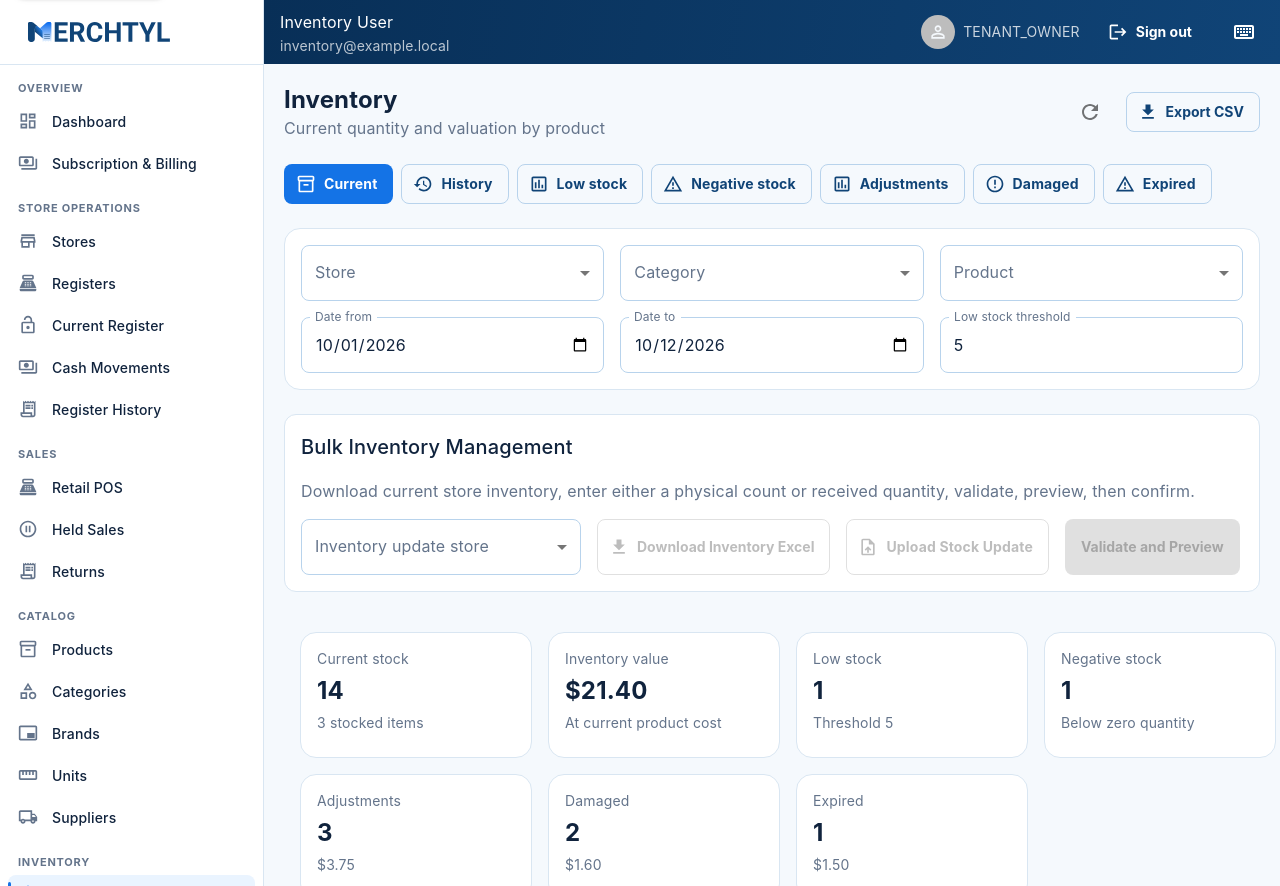
Scenario: Inventory reporting pages › shows bulk inventory actions to an authorized owner even with an empty permission list
Expected: the heading "Bulk Inventory Management" is shown, top-left (301, 435), bottom-right (573, 459)
Expected: the button "Download Inventory Excel" is disabled, top-left (597, 519), bottom-right (830, 575)
Click the dropdown named "Inventory update store" next to "Inventory update store". click: [441, 547]
box: top-left (301, 519), bottom-right (581, 575)
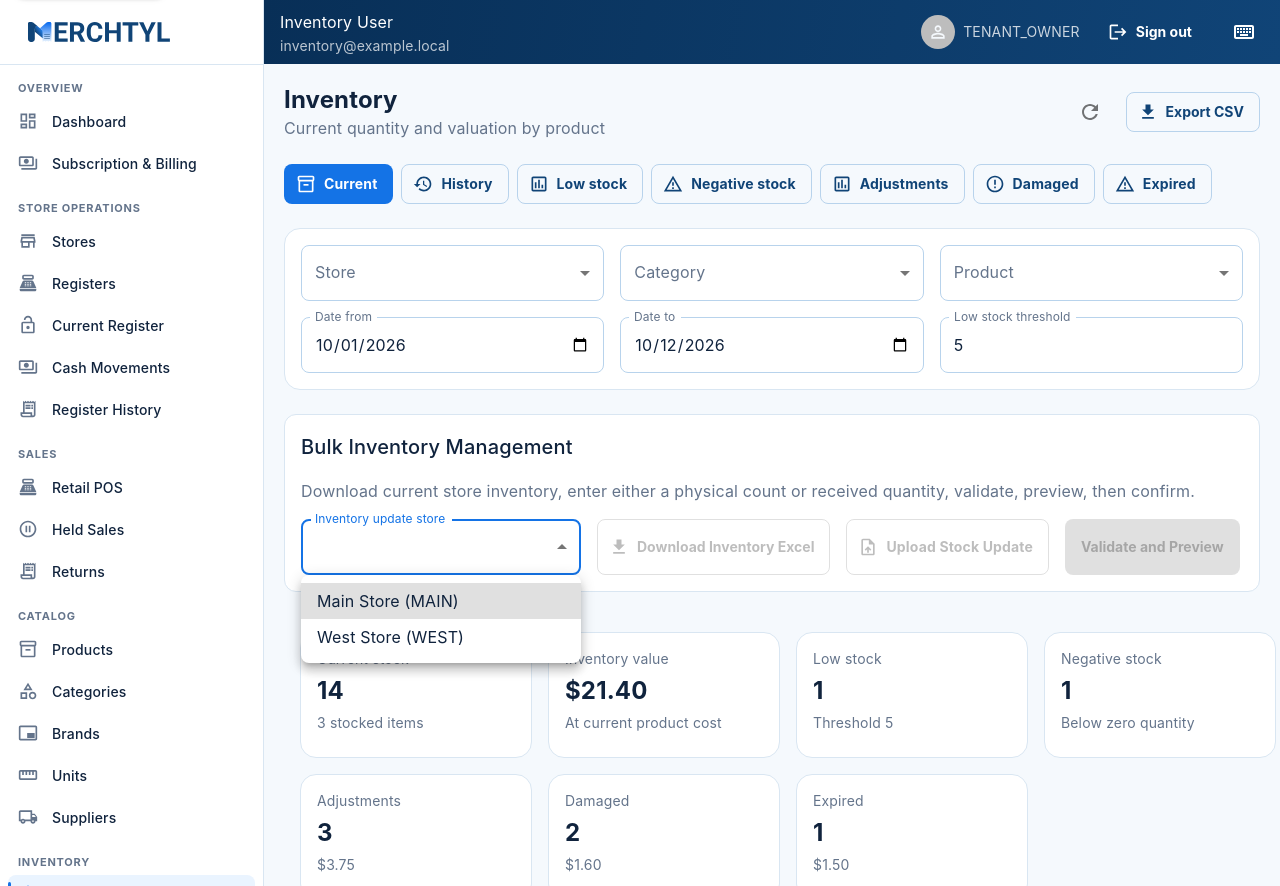
Click the option "Main Store (MAIN)". click: [441, 601]
box: top-left (301, 583), bottom-right (581, 619)
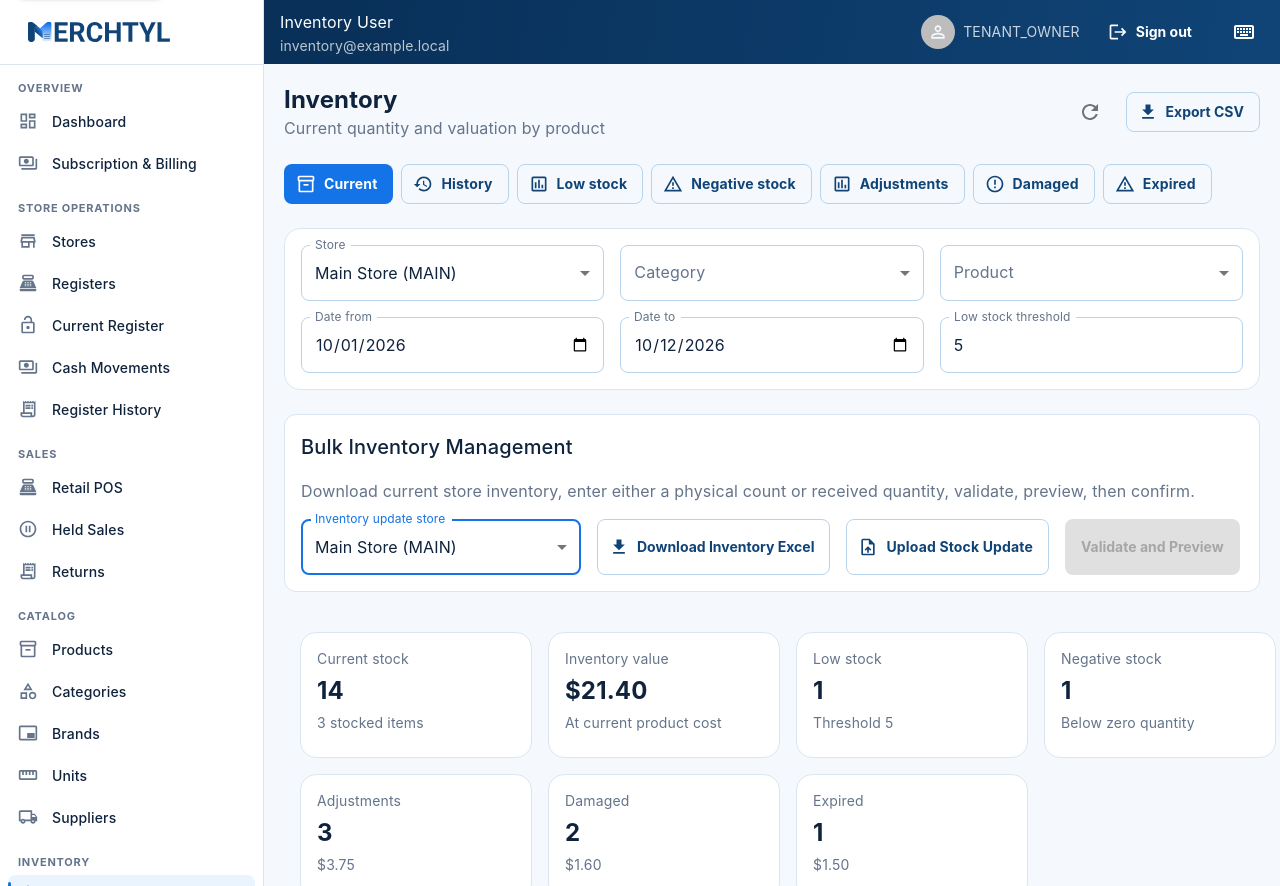
Result: the button "Download Inventory Excel" is enabled at top-left (597, 519), bottom-right (830, 575)
Result: the button "Upload Stock Update" is enabled at top-left (846, 519), bottom-right (1049, 575)
